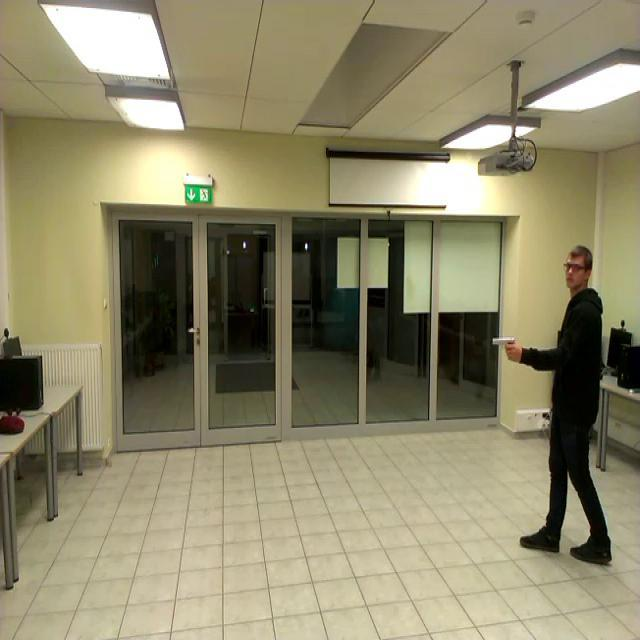Gun: (494, 336, 516, 354)
